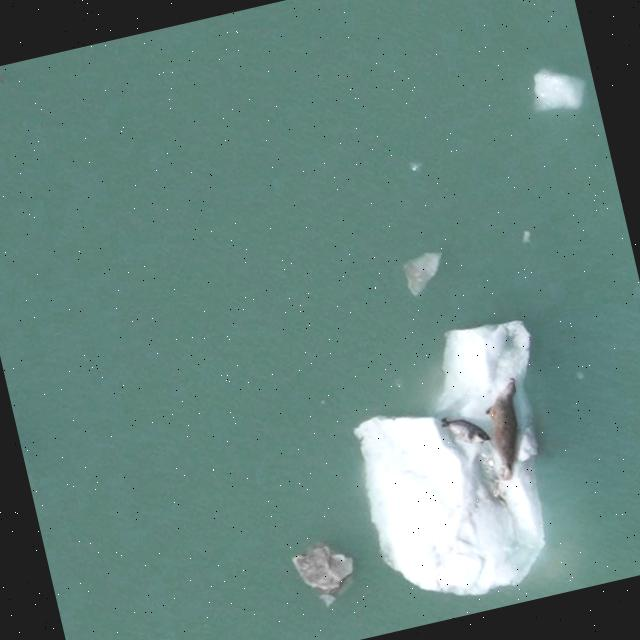seal: (485, 380, 523, 480), (441, 417, 493, 445)
